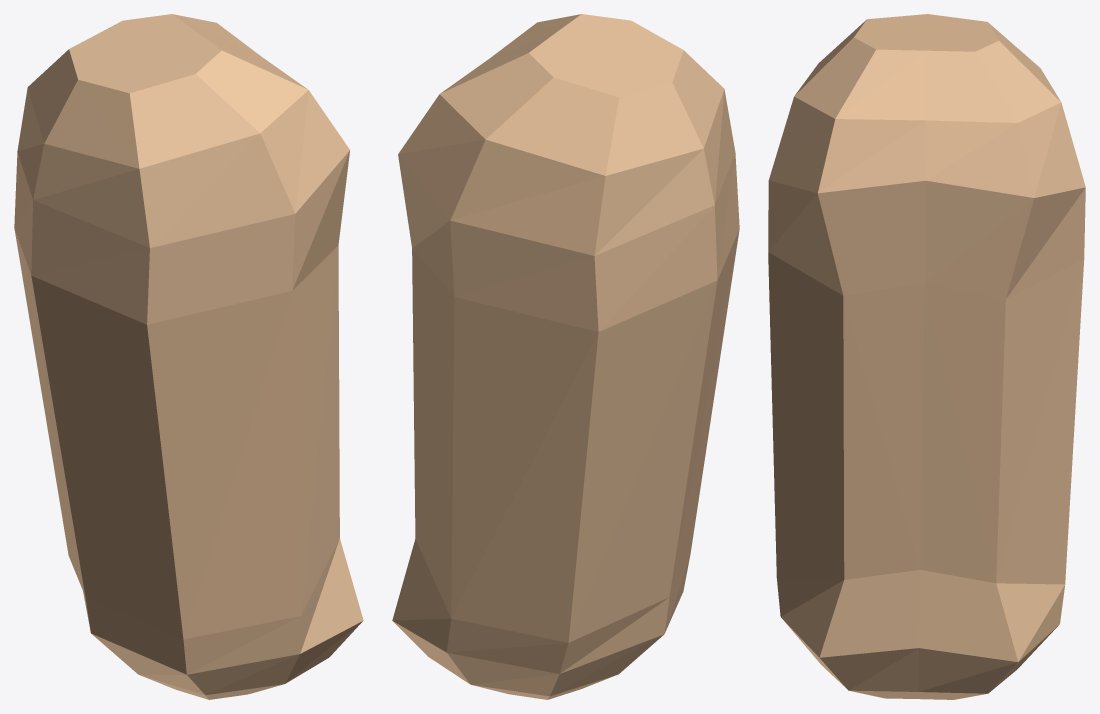
File: LFing11_mesh.dae
3 renders of one model, left to right at view 1: azimuth 30°, elevation 25°; view 2: azimuth 150°, elevation 25°; view 3: azimuth 270°, elevation 25°, orthographic. The views are drawn at different scales.
Parts seen in each view (by area): view 1: LFing11; view 2: LFing11; view 3: LFing11.
Part boxes in pixels (<box>): LFing11: <box>14,14,363,699</box>; LFing11: <box>392,14,739,699</box>; LFing11: <box>768,14,1085,699</box>.
Bounding box in the file's own units: 0.0174 × 0.0389 × 0.0178.
